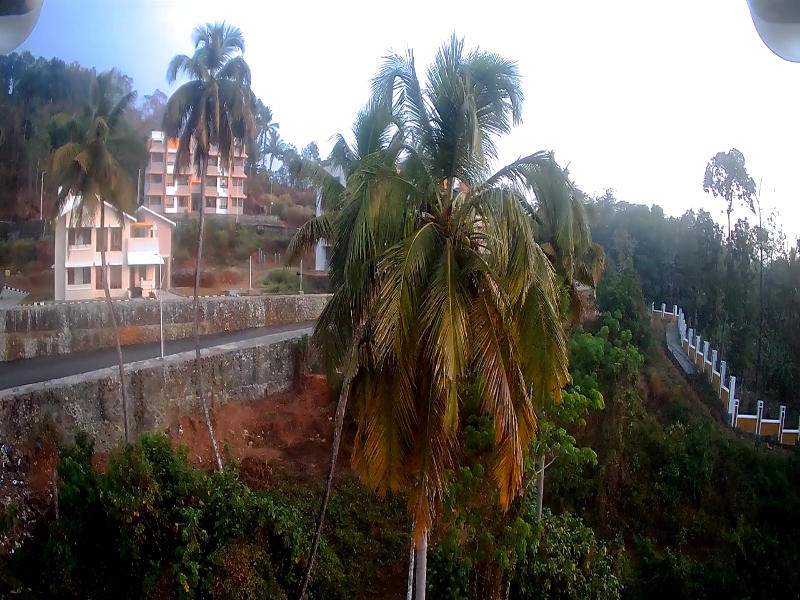coconut: (460, 234, 470, 246)
